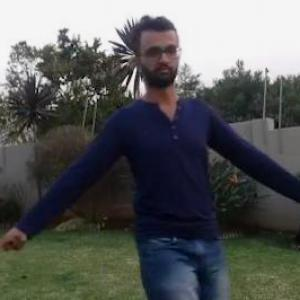land: (29, 51, 291, 299)
